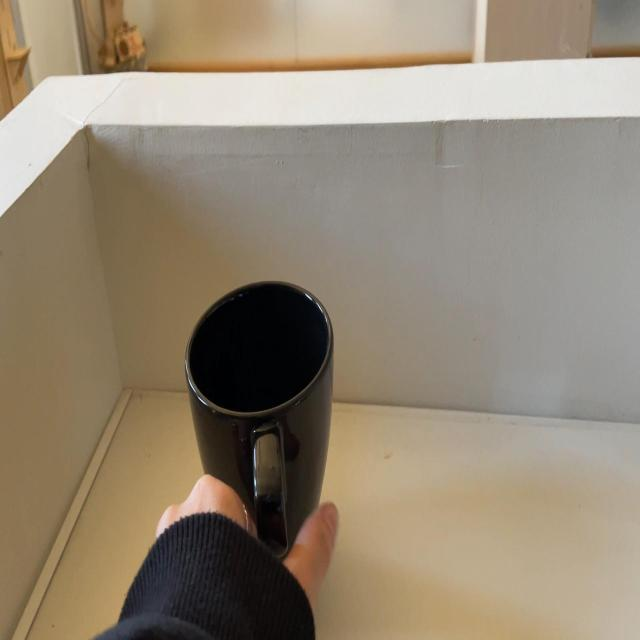cup: (184, 279, 335, 576)
